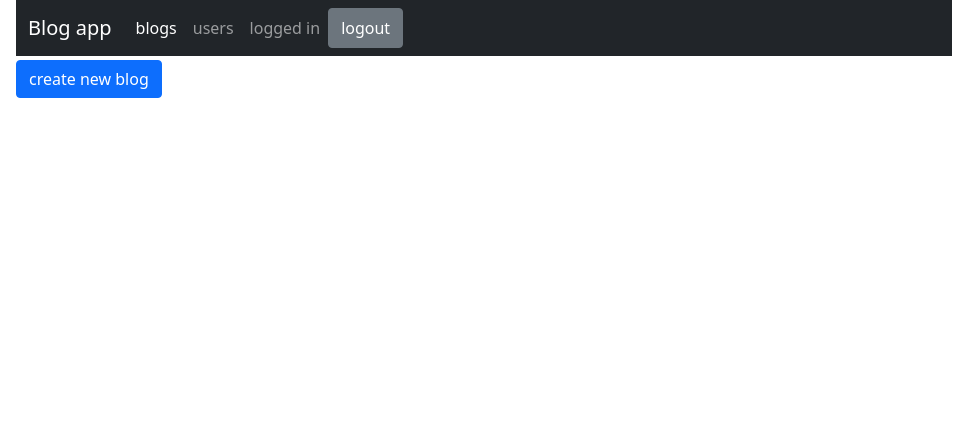
Blog app › Login › when logged in › A blog can be created
The width and height of the screenshot is (969, 433).
Click the button with id "createNewBlog-button" at (89, 79), box x1=16 y1=60 x2=162 y2=98
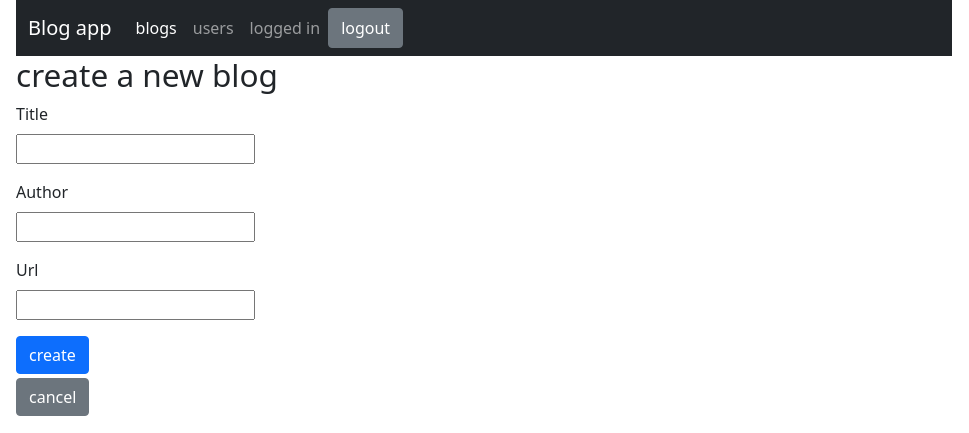
Type "Someblog" into the field with id "title" at (136, 149), box x1=16 y1=134 x2=255 y2=164
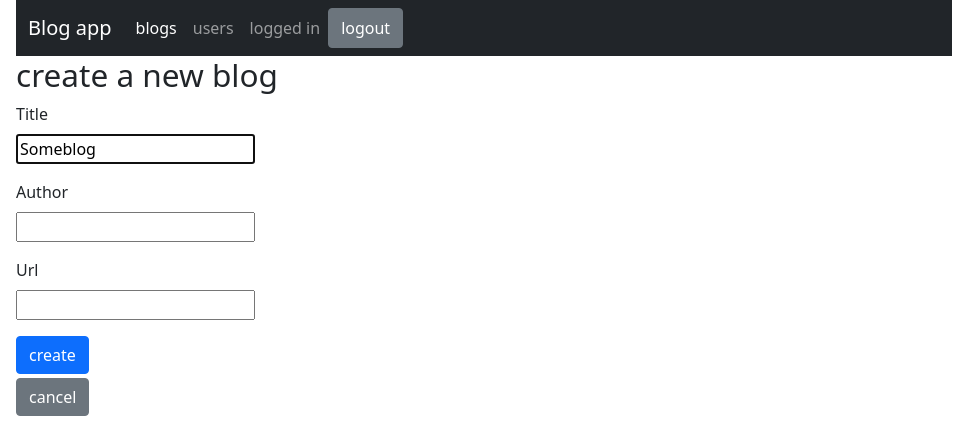
Type "SomeAuthor" into the field with id "author" at (136, 227), box x1=16 y1=212 x2=255 y2=242
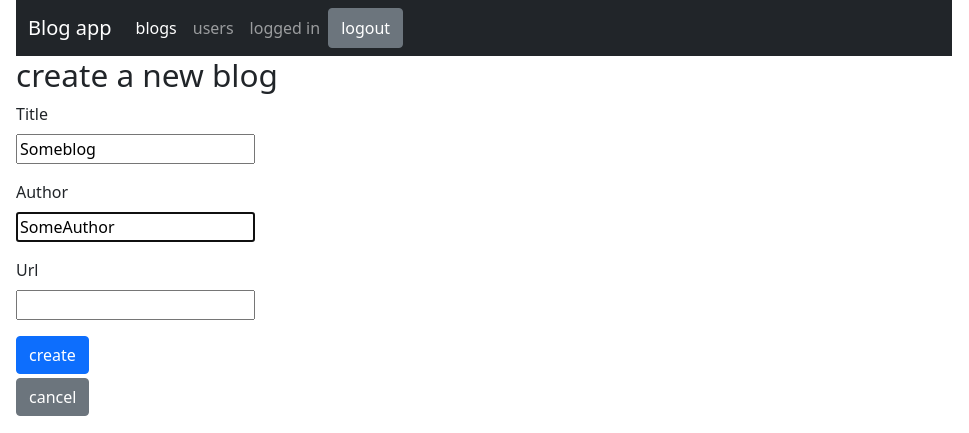
Type "someurl" into the field with id "url" at (136, 305), box x1=16 y1=290 x2=255 y2=320
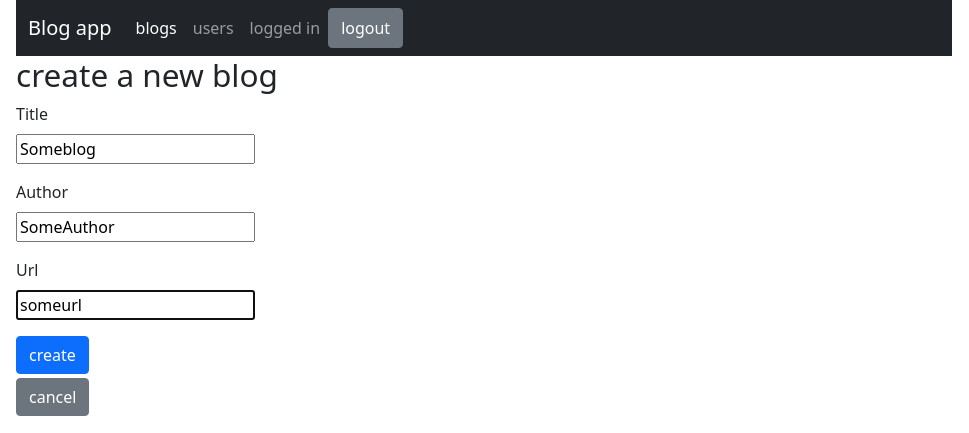
Click the button with id "create-button" at (53, 355), box x1=16 y1=336 x2=89 y2=374
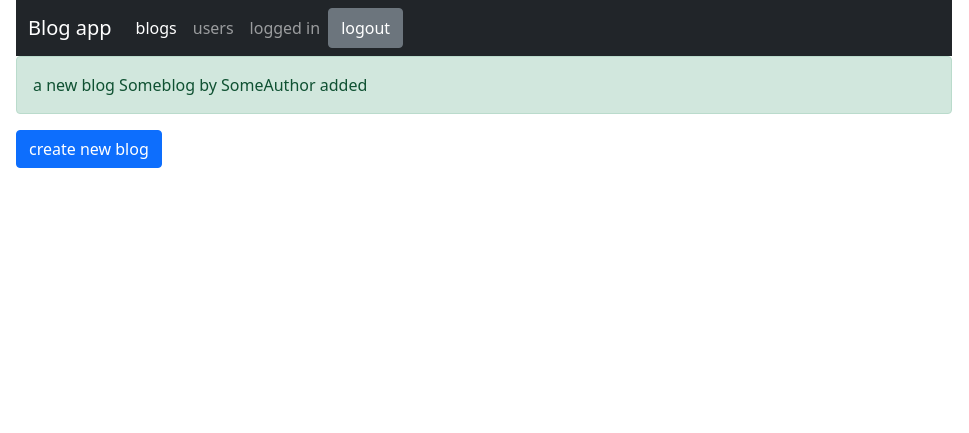
Check: the text "Someblog" is shown, box x1=33 y1=74 x2=367 y2=96
